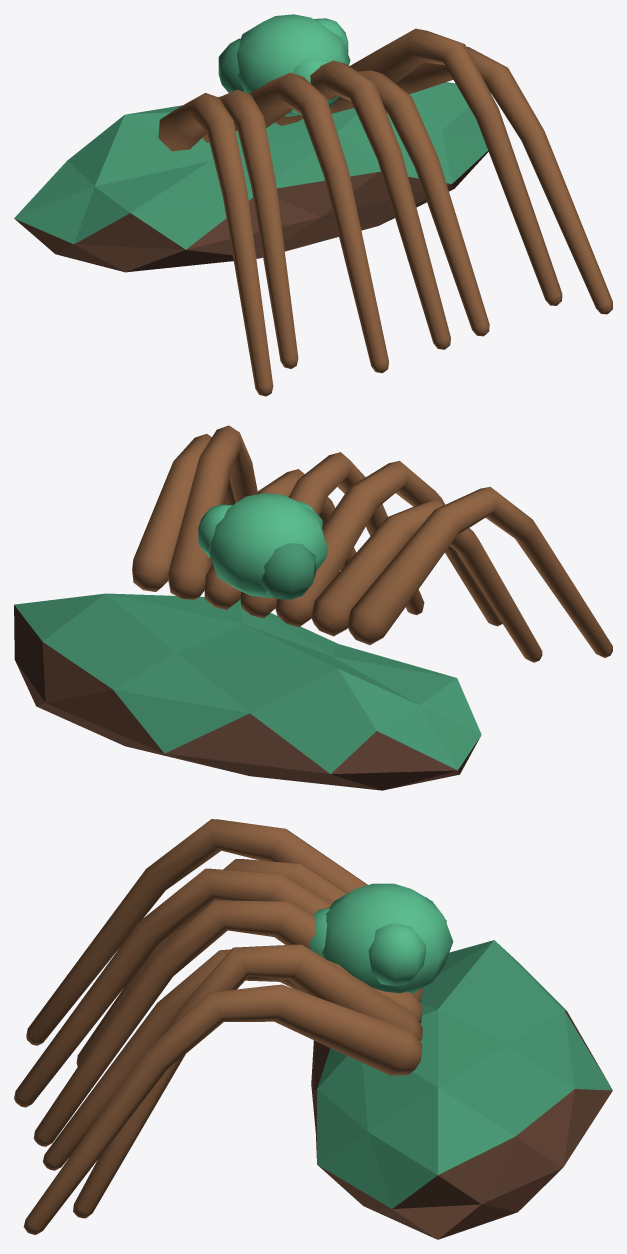
The model's file is W3_Roots.fbx.
3 renders of one model, top to bottom at view 1: azimuth 30°, elevation 25°; view 2: azimuth 150°, elevation 25°; view 3: azimuth 270°, elevation 25°, orthographic. The views are drawn at different scales.
Parts seen in each view (by area): view 1: W3_Roots; view 2: W3_Roots; view 3: W3_Roots.
Part boxes in pixels (x1,y1,x2,y2): W3_Roots: (14, 14, 612, 396); W3_Roots: (14, 425, 612, 790); W3_Roots: (14, 819, 612, 1239).
Bounding box in the file's own units: 7.74 × 3.59 × 7.7.
